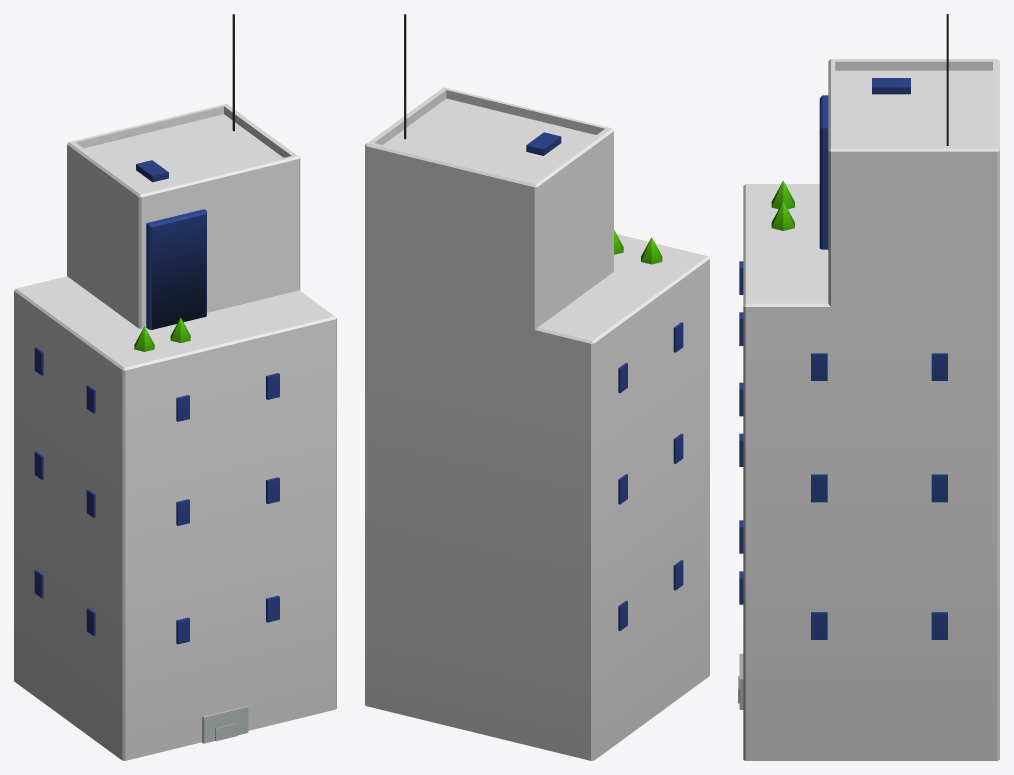
Rendered from Tall.fbx.
3 views of the same model, side by side, from view 1: azimuth 30°, elevation 25°; view 2: azimuth 150°, elevation 25°; view 3: azimuth 270°, elevation 25° (orthographic). The views are drawn at different scales.
Visible parts, largest first — view 1: polySurface50; view 2: polySurface50; view 3: polySurface50.
Part boxes in pixels (box(x1,y1,x2,y2)): polySurface50: box(14, 14, 336, 760); polySurface50: box(365, 14, 709, 760); polySurface50: box(738, 14, 999, 760).
Size of the model in its own units: 11.53 by 31.99 by 10.29.
